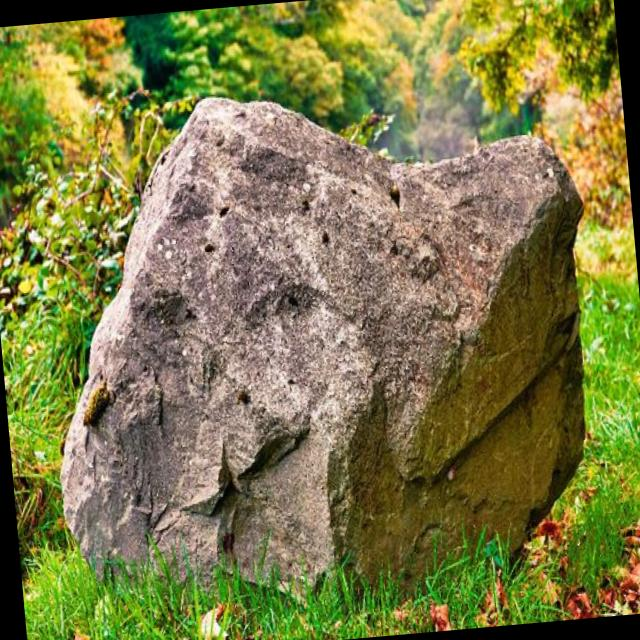grass: (0, 223, 640, 640)
rocks: (61, 100, 584, 583)
